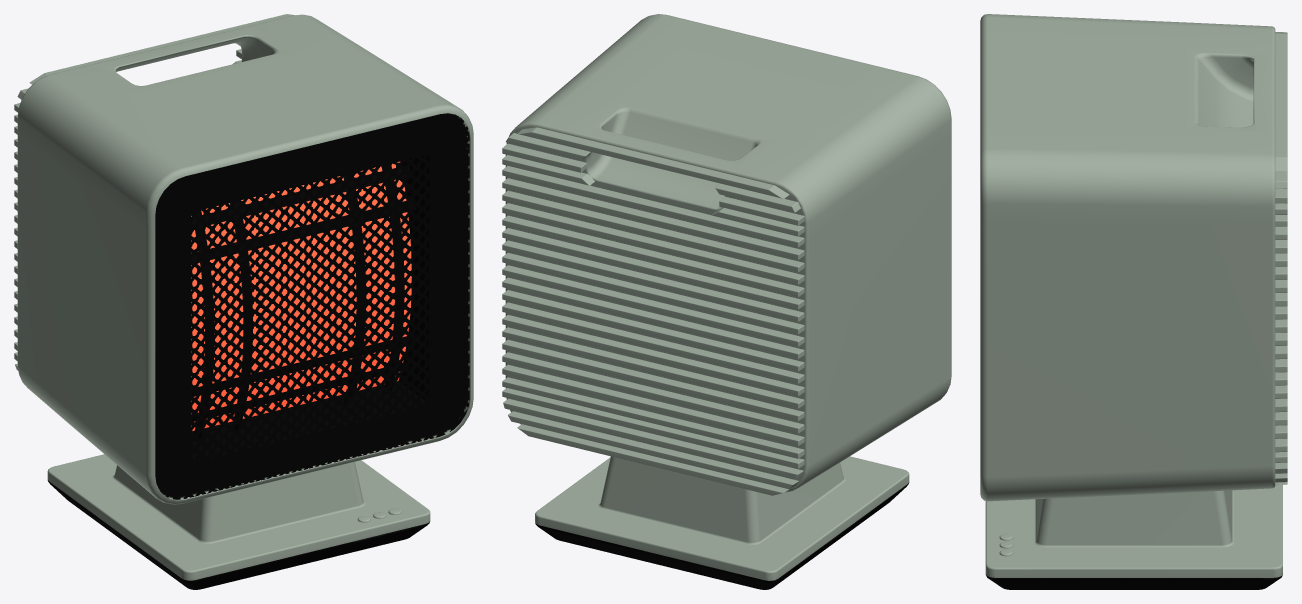
Rendered from electronic_32_02.001.fbx.
The picture shows the model from 3 angles, left to right: view 1: azimuth 30°, elevation 25°; view 2: azimuth 150°, elevation 25°; view 3: azimuth 270°, elevation 25°; orthographic projection. The views are drawn at different scales.
Parts seen in each view (by area): view 1: electronic_32_02.001; view 2: electronic_32_02.001; view 3: electronic_32_02.001.
Part boxes in pixels (left/top/right/bottom): electronic_32_02.001: left=14, top=14, right=473, bottom=589; electronic_32_02.001: left=502, top=14, right=951, bottom=589; electronic_32_02.001: left=980, top=14, right=1287, bottom=589.
Bounding box in the file's own units: 23.47 × 29.73 × 18.36.
1 material, 1 textured.
